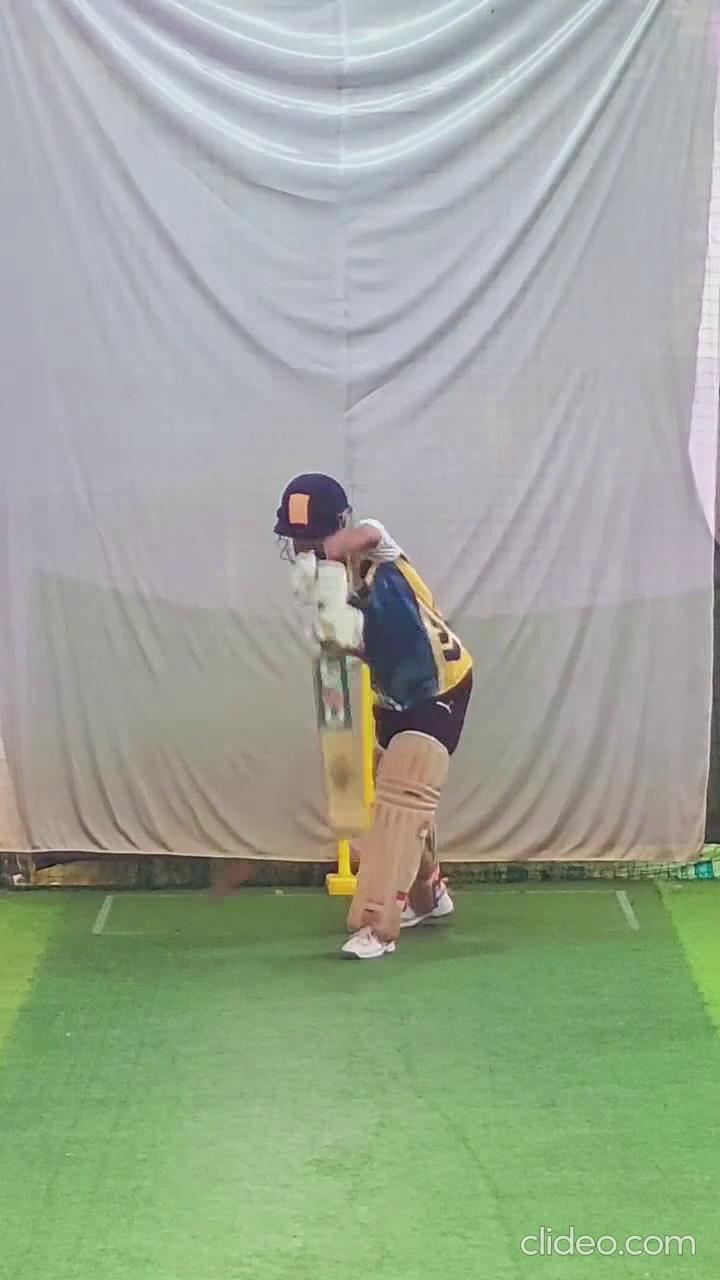bat: (307, 649, 373, 841)
